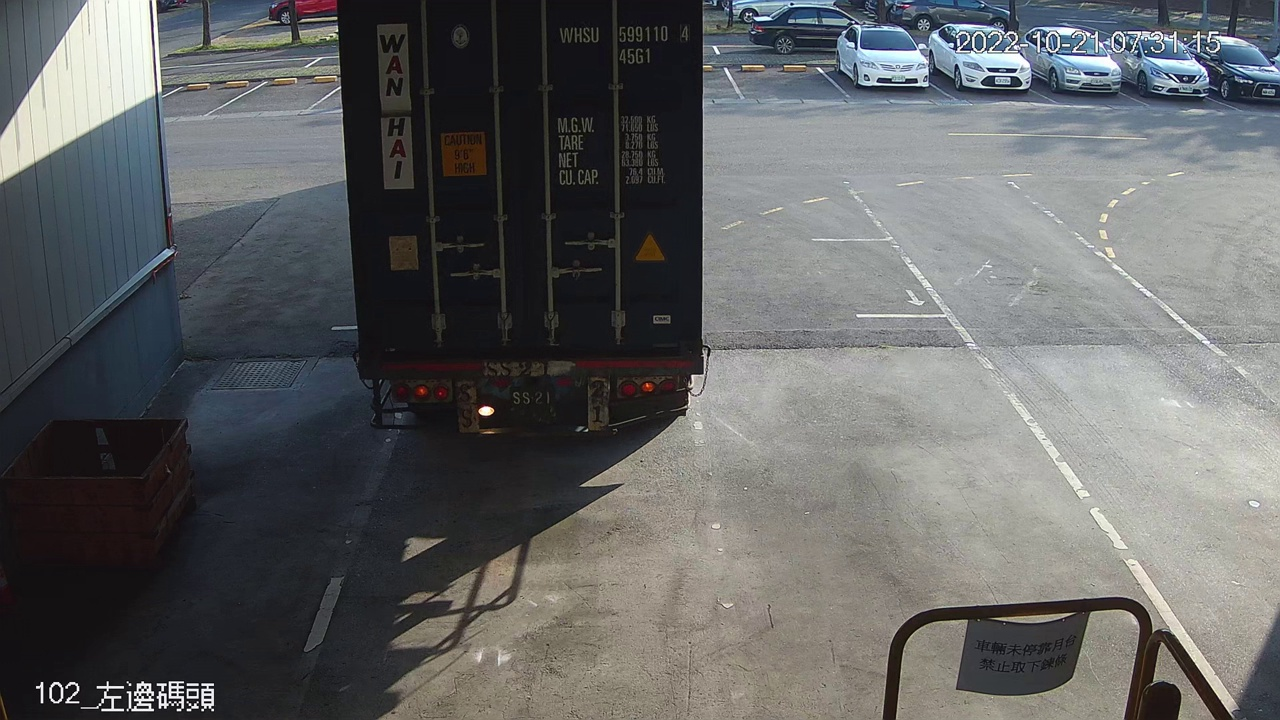container: (553, 16, 695, 68)
